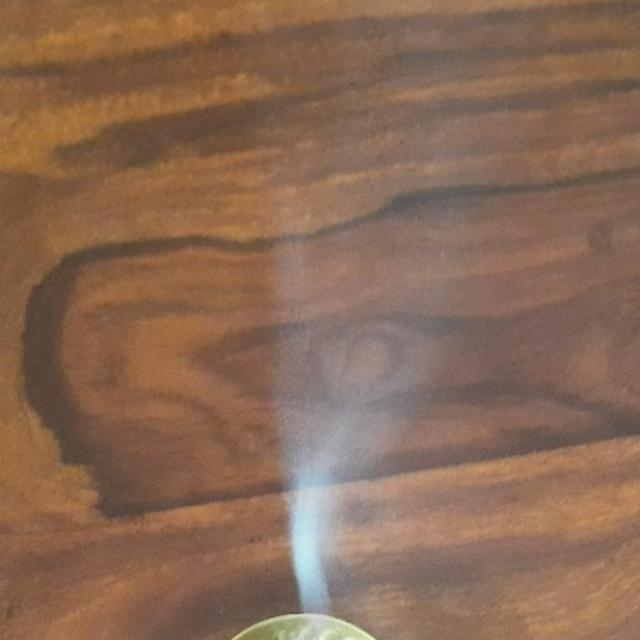fire: (266, 117, 457, 612)
